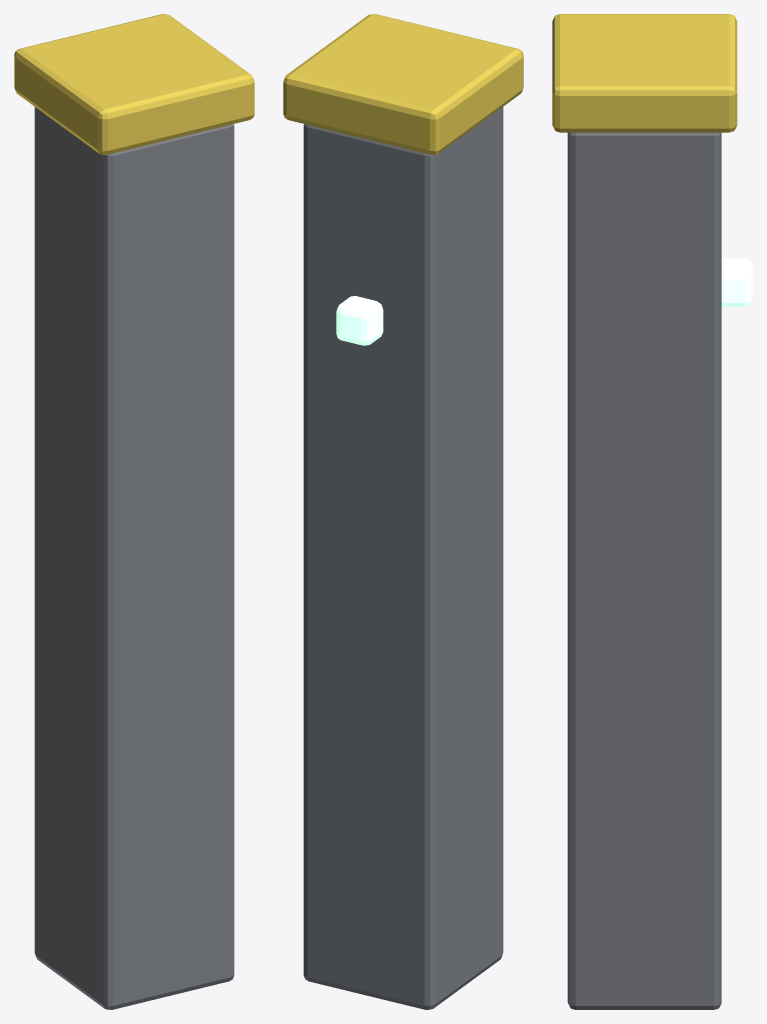
Rendered from дверная_стойка.glb.
3 views of the same model, side by side, from view 1: azimuth 30°, elevation 25°; view 2: azimuth 150°, elevation 25°; view 3: azimuth 270°, elevation 25° (orthographic). The views are drawn at different scales.
Visible parts, largest first — view 1: дверная_стойка; view 2: дверная_стойка; view 3: дверная_стойка.
Boxes of the visible parts, bbox=[...] form: дверная_стойка: bbox=[14, 14, 254, 1009]; дверная_стойка: bbox=[283, 14, 523, 1009]; дверная_стойка: bbox=[552, 14, 752, 1009].
Bounding box in the file's own units: 0.36 × 2 × 0.39.
